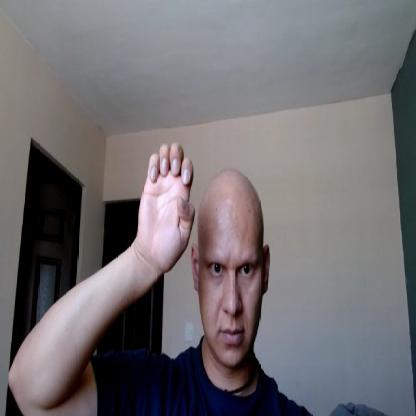E: (136, 142, 196, 270)
